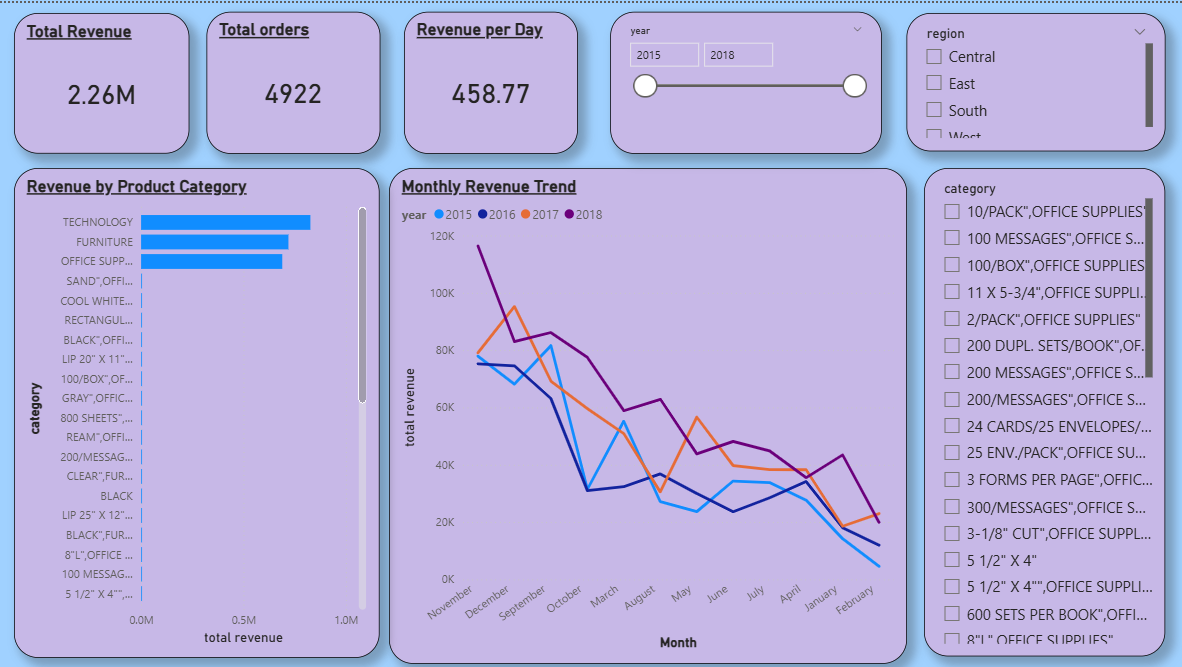

What the dashboard file says about the page in this screenshot:
{"tool":"powerbi","page":{"name":"Executive sales overview","canvas":[1280,720],"ordinal":0},"visuals":[{"type":"card","title":"Total Revenue","fields":{"Values":["dim_customer.total revenue"]},"box":[16.5,11,189.4,152.3],"z":0},{"type":"card","title":"Total orders","fields":{"Values":["dim_customer.total orders"]},"box":[223.7,9.6,188,153.7],"z":1},{"type":"card","title":"Revenue per Day","fields":{"Values":["dim_customer.revenue per order"]},"box":[437.7,9.6,188,153.7],"z":3},{"type":"lineChart","title":"Monthly Revenue Trend","fields":{"Category":["dim_date.month_name"],"Y":["dim_customer.total revenue"],"Series":["dim_date.year"]},"box":[421.4,178.6,560,535.7],"z":4},{"type":"barChart","title":"Revenue by Product Category","fields":{"Category":["dim_product.category"],"Y":["dim_customer.total revenue"]},"box":[16.5,178.4,395.2,529.7],"z":5},{"type":"slicer","fields":{"Values":["dim_date.year"]},"box":[661.4,9.6,293.7,153.7],"z":6},{"type":"slicer","fields":{"Values":["dim_region.region"]},"box":[981.1,11,279.9,149.6],"z":7},{"type":"slicer","fields":{"Values":["dim_product.category"]},"box":[1000.3,178.4,260.7,528.3],"z":8}]}

Visuals, with their boxes in screenshot pixels (x1, y1, x2, y2), scaled from the page's 1280x720 canvas onto the 1182x667 screenshot:
"Total Revenue" card: (15, 10, 190, 151)
"Total orders" card: (207, 9, 380, 151)
"Revenue per Day" card: (404, 9, 578, 151)
"Monthly Revenue Trend" lineChart: (389, 165, 906, 662)
"Revenue by Product Category" barChart: (15, 165, 380, 656)
slicer - dim_date.year: (611, 9, 882, 151)
slicer - dim_region.region: (906, 10, 1164, 149)
slicer - dim_product.category: (924, 165, 1164, 655)
